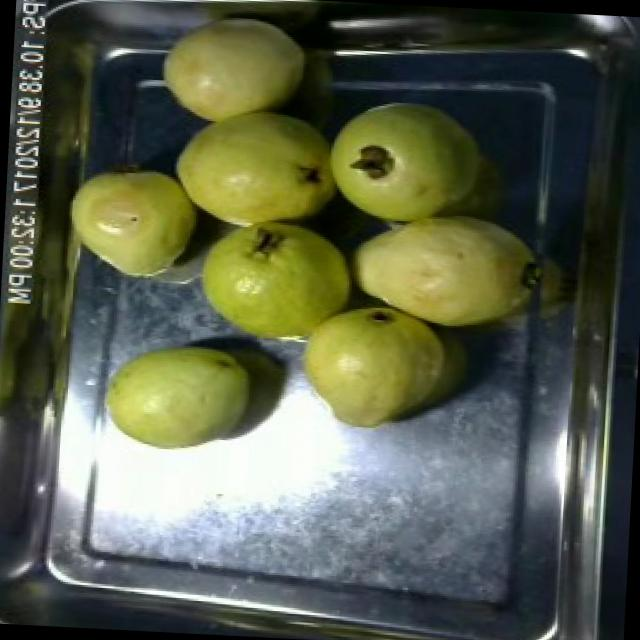Fruit: (330, 190, 542, 342), (282, 288, 475, 444), (308, 85, 490, 238), (180, 217, 377, 351), (164, 98, 358, 228), (148, 0, 319, 135), (90, 332, 266, 463), (59, 154, 210, 290)
